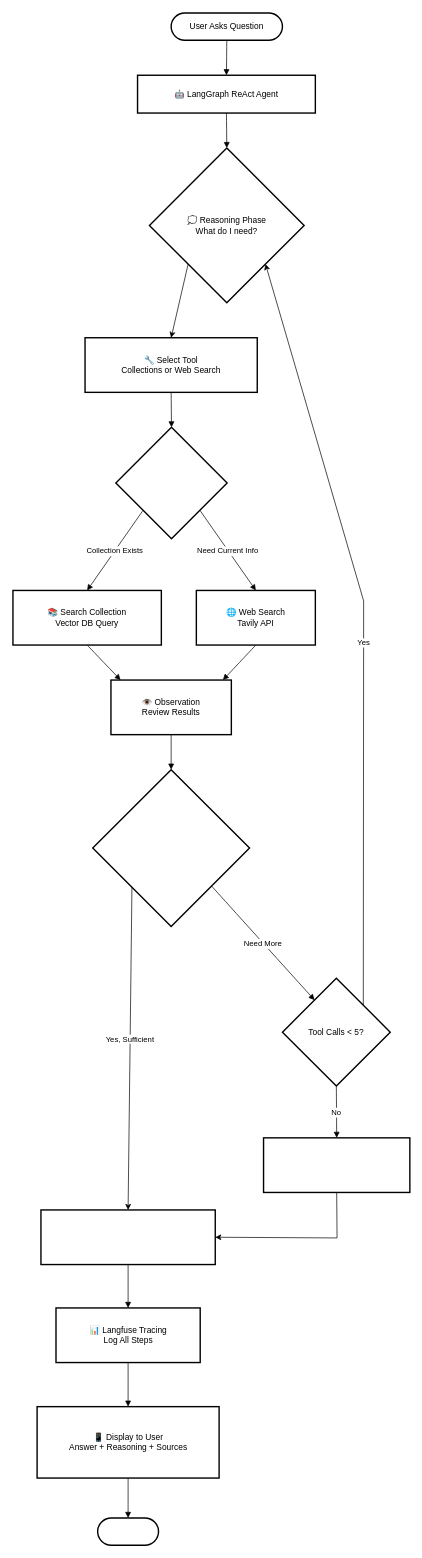
Some shapes in this 422 by 1558 pixel diagram are drawn without their labels. The box of each missing label's shape, as (x1, y1, x2, y2) in pixels:
Available Tools: (115, 426, 227, 539)
⚠️ Generate Answer with Available Info: (262, 1137, 410, 1193)
✅ Done: (97, 1517, 159, 1546)
✨ Generate Final Answer Cerebras LLM: (40, 1209, 216, 1265)
💭 Thought Enough Information?: (92, 769, 250, 927)
